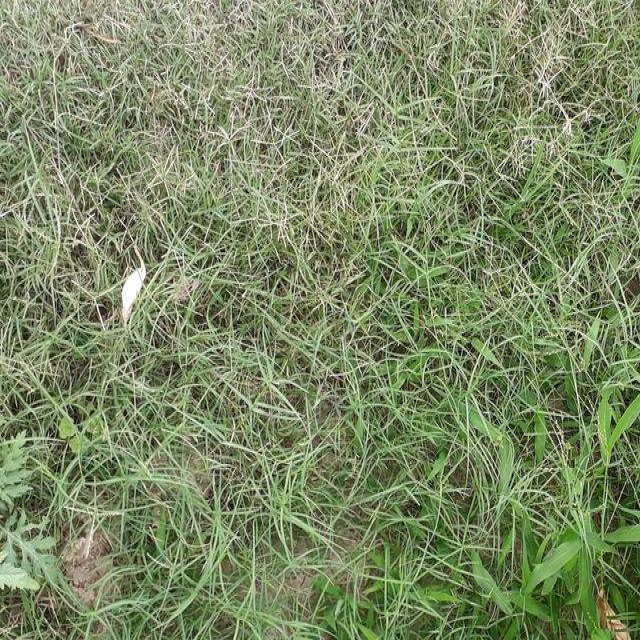weed: (34, 68, 640, 464), (486, 388, 640, 640), (330, 457, 533, 640), (0, 399, 93, 635)
